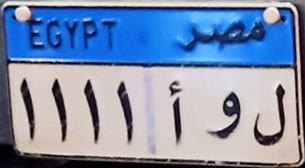1: (110, 71, 139, 148), (51, 76, 75, 149), (79, 73, 101, 150), (22, 74, 41, 141)
أ: (162, 79, 187, 150)
ل: (244, 69, 289, 149)
و: (202, 84, 248, 148)
